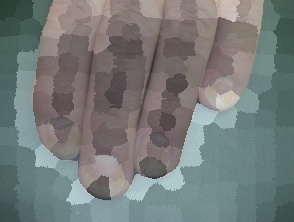Nail_psoriasis: (80, 150, 131, 200), (198, 71, 245, 116), (43, 115, 82, 163), (136, 130, 174, 178)
